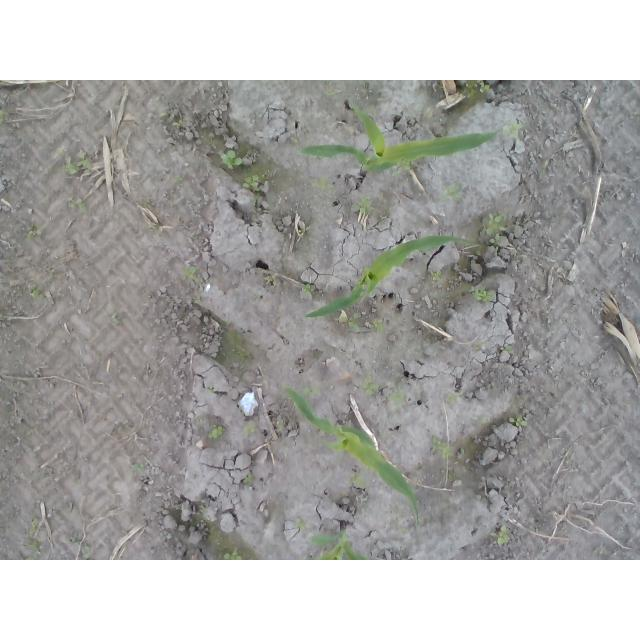Maize: (284, 387, 422, 526), (296, 97, 496, 172), (305, 236, 467, 317), (309, 528, 372, 561)
Weeds: (478, 212, 506, 247), (64, 150, 91, 175), (217, 149, 243, 171), (440, 183, 464, 204), (362, 370, 381, 395), (385, 387, 408, 407), (431, 438, 453, 458), (351, 196, 373, 215), (310, 176, 336, 192), (472, 286, 496, 302), (508, 415, 529, 433), (466, 80, 491, 94), (24, 224, 44, 241), (504, 122, 525, 138), (301, 383, 322, 397), (28, 537, 44, 555), (242, 174, 260, 190), (496, 527, 511, 546), (208, 424, 225, 440), (349, 312, 361, 334), (369, 319, 384, 333), (351, 473, 365, 487), (242, 473, 255, 486), (68, 197, 82, 209), (184, 265, 196, 279), (303, 284, 314, 299), (223, 552, 241, 561), (276, 415, 285, 433), (29, 518, 39, 534), (128, 463, 144, 473), (400, 160, 410, 175), (30, 288, 43, 299), (242, 422, 255, 433), (289, 135, 303, 145), (387, 168, 402, 177), (82, 544, 90, 560), (499, 343, 513, 352), (172, 119, 184, 129), (320, 91, 336, 98), (295, 519, 305, 530), (207, 385, 217, 395), (432, 271, 441, 281), (399, 528, 409, 537), (193, 520, 204, 528), (359, 80, 370, 88), (447, 393, 457, 401), (175, 175, 183, 185), (319, 80, 337, 84), (160, 112, 169, 119), (255, 112, 262, 121), (479, 417, 487, 424), (561, 129, 568, 137), (538, 168, 545, 176), (240, 412, 244, 417)
